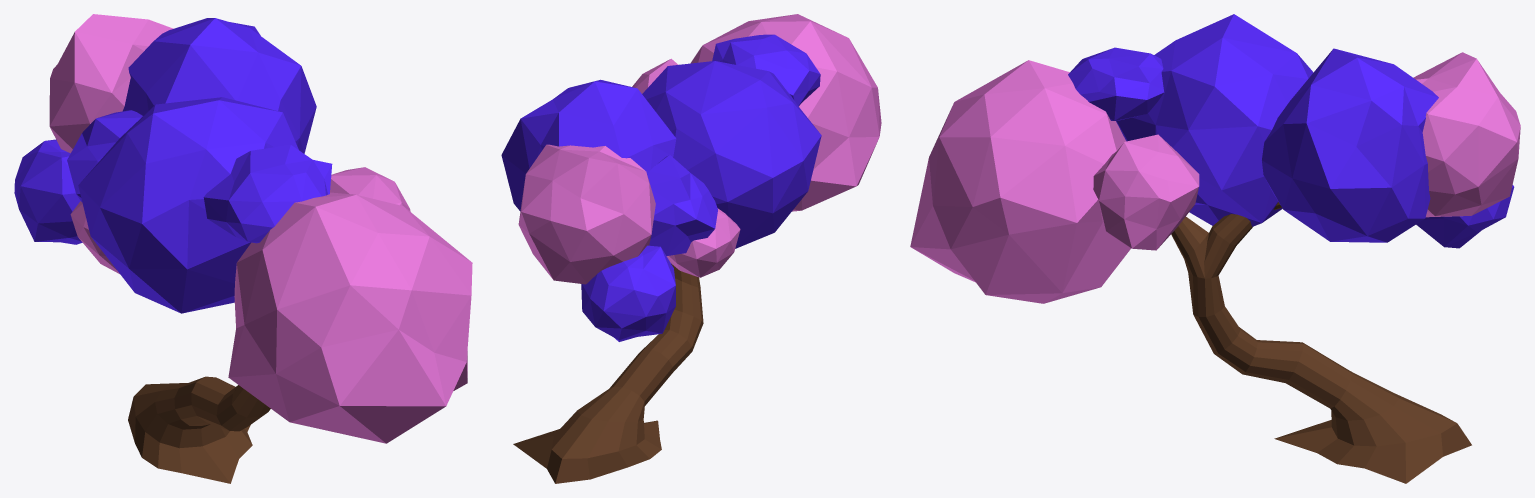
The model's file is Tree2.fbx.
3 renders of one model, left to right at view 1: azimuth 30°, elevation 25°; view 2: azimuth 150°, elevation 25°; view 3: azimuth 270°, elevation 25°, orthographic. The views are drawn at different scales.
Visible parts, largest first — view 1: Icosphere.006; view 2: Icosphere.006; view 3: Icosphere.006.
Boxes of the visible parts, box(x1,y1,x2,y2) form: Icosphere.006: box(14, 14, 472, 483); Icosphere.006: box(501, 14, 881, 483); Icosphere.006: box(910, 14, 1520, 483).
Bounding box in the file's own units: 310 × 462 × 648.
